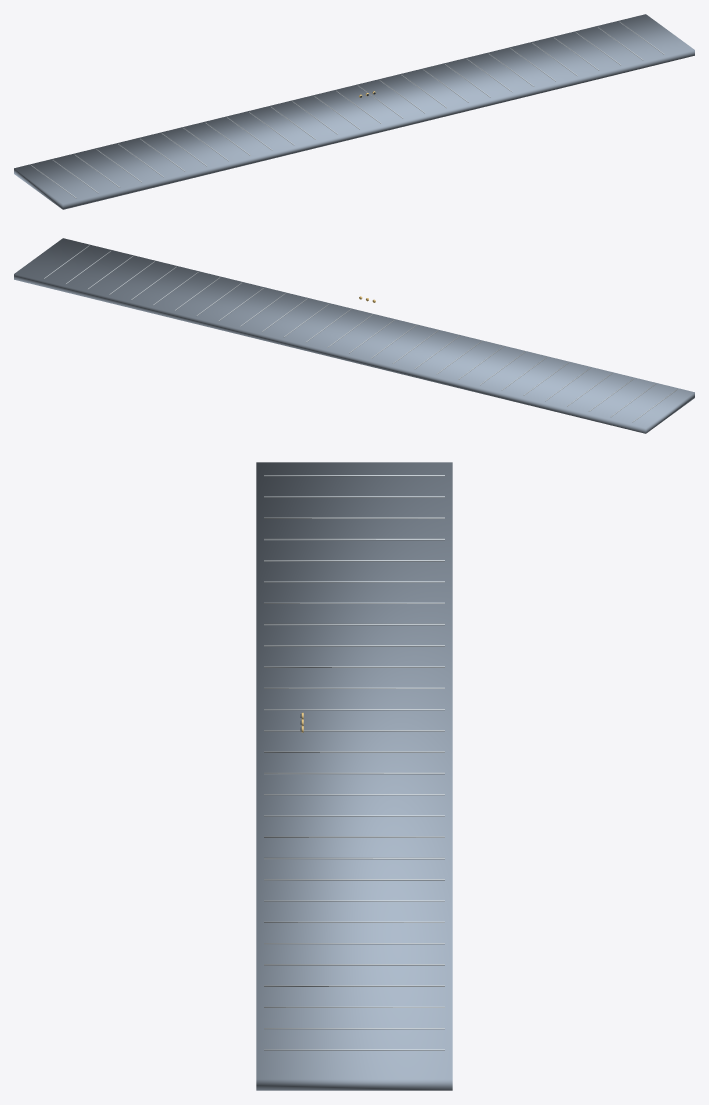
The model's file is 08_L90_PropulsionControlWalkway.glb.
3 renders of one model, top to bottom at view 1: azimuth 30°, elevation 25°; view 2: azimuth 150°, elevation 25°; view 3: azimuth 270°, elevation 25°, orthographic. The views are drawn at different scales.
Visible parts, largest first — view 1: L90_PropulsionControlWalkway; view 2: L90_PropulsionControlWalkway; view 3: L90_PropulsionControlWalkway.
Boxes of the visible parts, x1,y1,x2,y2 form: L90_PropulsionControlWalkway: (14,14,694,209); L90_PropulsionControlWalkway: (14,238,694,433); L90_PropulsionControlWalkway: (256,462,452,1090).
Size of the model in its own units: 29 by 1.37 by 3.9.
